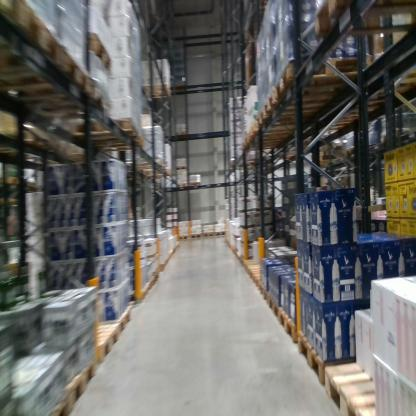pallet: (1, 46, 92, 118), (275, 52, 366, 105), (295, 326, 366, 392), (321, 357, 393, 415), (2, 4, 64, 70), (316, 3, 415, 39), (10, 88, 110, 120), (261, 84, 356, 117), (64, 355, 97, 413), (63, 118, 139, 140), (84, 320, 119, 364), (89, 22, 115, 70), (49, 379, 80, 412), (109, 302, 137, 336), (277, 306, 299, 347), (140, 75, 173, 102), (134, 156, 164, 175), (144, 169, 172, 184), (268, 295, 281, 321), (344, 144, 361, 160), (260, 284, 271, 306), (188, 179, 202, 189), (176, 162, 188, 171), (173, 130, 187, 137), (191, 232, 202, 240), (179, 234, 190, 242), (203, 230, 215, 237), (178, 181, 190, 188), (216, 228, 225, 237)
